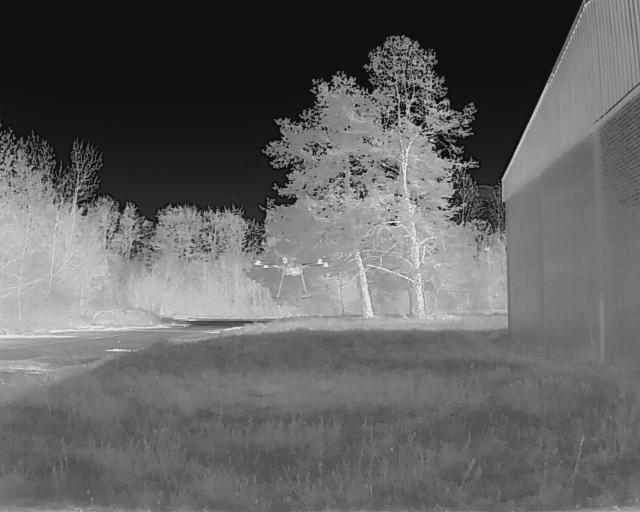drone: (247, 243, 337, 303)
